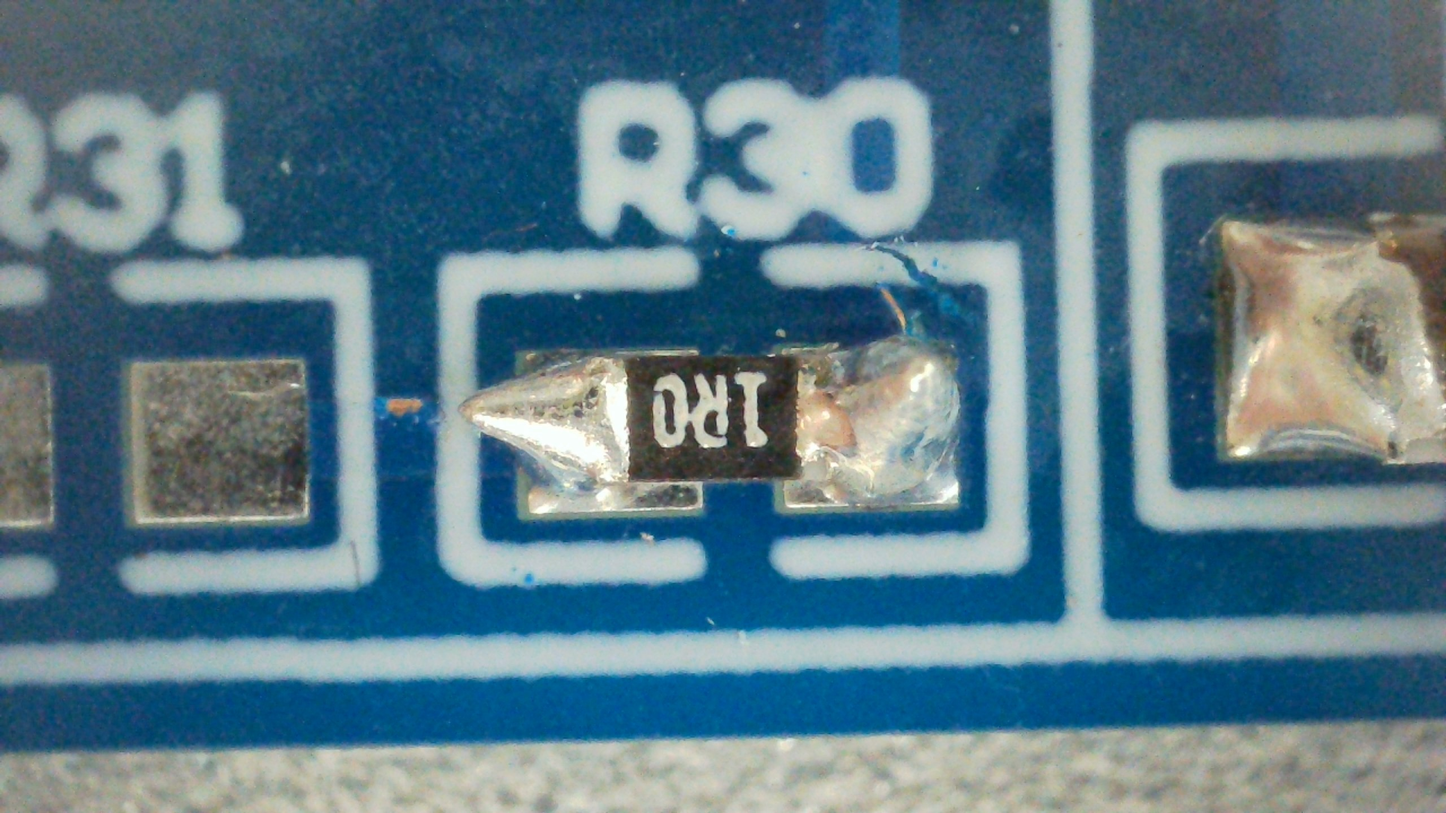OK: (459, 335, 960, 516)
